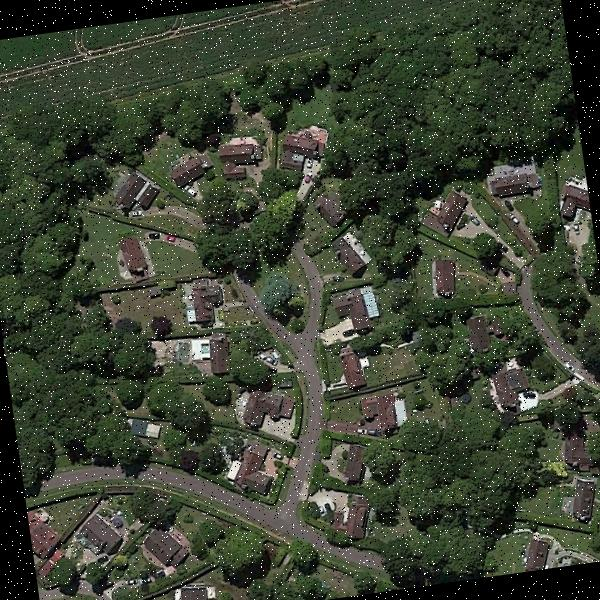Buildings: (480, 164, 545, 208), (422, 185, 466, 242), (240, 387, 293, 430), (231, 442, 272, 492), (110, 231, 152, 279), (552, 172, 590, 225), (143, 528, 187, 572), (76, 514, 118, 560), (336, 437, 372, 486), (116, 172, 152, 219), (332, 499, 372, 535), (214, 142, 258, 174), (332, 235, 366, 276), (167, 148, 200, 189), (339, 289, 376, 324), (490, 372, 528, 406), (278, 136, 318, 166), (427, 257, 460, 290), (362, 398, 401, 425), (192, 284, 220, 320), (339, 348, 363, 389), (311, 195, 341, 226), (571, 478, 599, 511), (28, 522, 62, 548), (525, 528, 544, 570), (470, 316, 496, 344), (562, 435, 588, 462), (208, 340, 230, 370), (177, 583, 210, 600)
